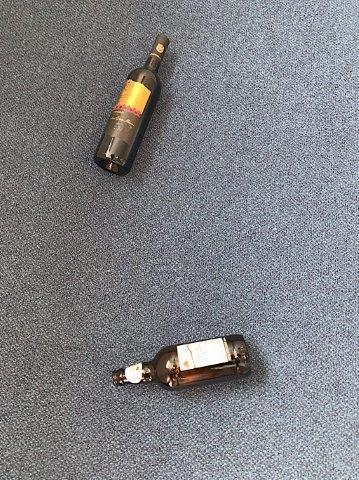botolkaca: (96, 34, 171, 174), (113, 334, 252, 390)
